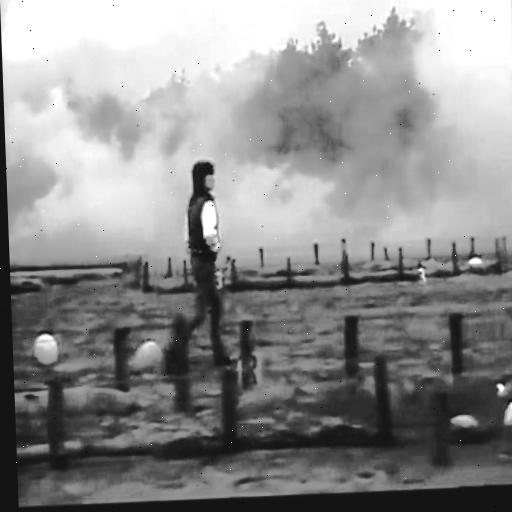balloon: (132, 340, 163, 375), (35, 331, 61, 369), (450, 409, 481, 435), (500, 394, 512, 430), (469, 253, 488, 275)
